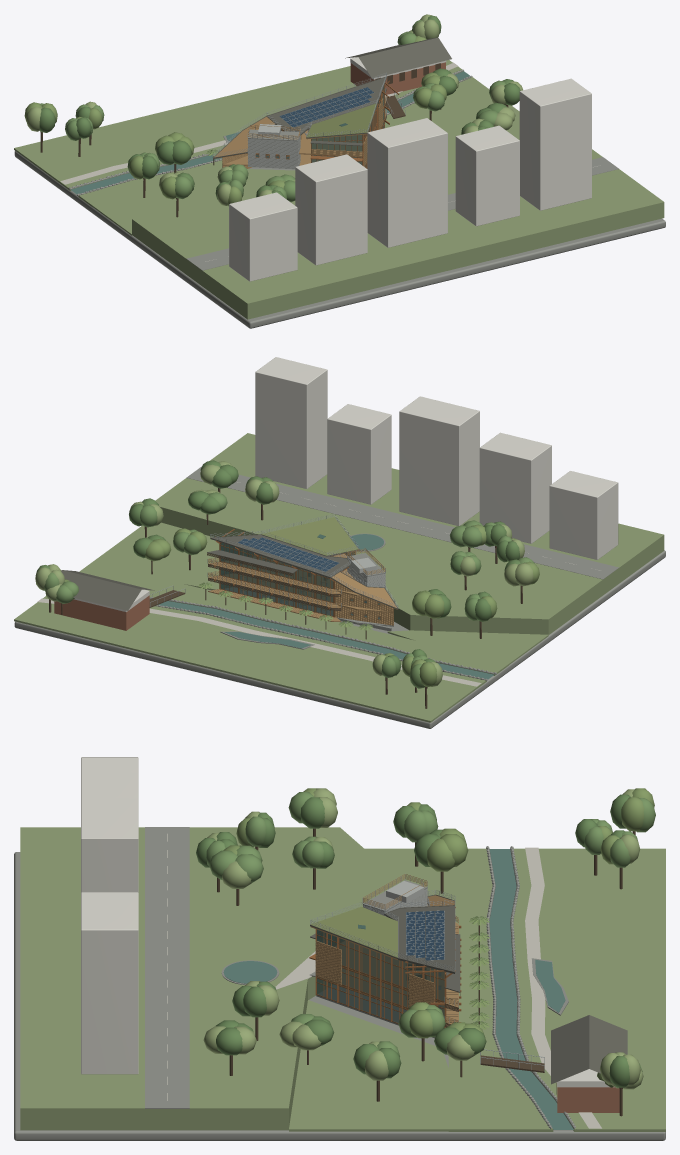
3 views of the same model, one above another, from view 1: azimuth 30°, elevation 25°; view 2: azimuth 150°, elevation 25°; view 3: azimuth 270°, elevation 25° (orthographic). The views are drawn at different scales.
Parts seen in each view (by area): view 1: 08_基地地形, 鄰棟與植栽, 04_屋頂與光電, 06_南側服務量體, 01_樓板與基座, 03_門窗玻璃, 05_陽台欄杆; view 2: 08_基地地形, 鄰棟與植栽, 04_屋頂與光電, 05_陽台欄杆, 03_門窗玻璃, 06_南側服務量體, 01_樓板與基座, 09_植栽; view 3: 08_基地地形, 鄰棟與植栽, 04_屋頂與光電, 03_門窗玻璃, 01_樓板與基座, 06_南側服務量體, 02_木構與斜撐, 09_植栽, 05_陽台欄杆.
Boxes of the visible parts, x1,y1,x2,y2 form: 08_基地地形: (14, 60, 665, 328); 鄰棟與植栽: (24, 14, 591, 281); 04_屋頂與光電: (213, 73, 399, 158); 06_南側服務量體: (222, 98, 383, 169); 01_樓板與基座: (223, 107, 383, 170); 03_門窗玻璃: (233, 86, 384, 167); 05_陽台欄杆: (310, 88, 386, 161); 08_基地地形: (14, 433, 665, 728); 鄰棟與植栽: (35, 357, 618, 708); 04_屋頂與光電: (210, 514, 398, 609); 05_陽台欄杆: (207, 547, 360, 621); 03_門窗玻璃: (220, 543, 380, 619); 06_南側服務量體: (335, 548, 393, 625); 01_樓板與基座: (223, 554, 393, 631); 09_植栽: (198, 582, 373, 630); 08_基地地形: (14, 827, 665, 1140); 鄰棟與植栽: (81, 757, 655, 1116); 04_屋頂與光電: (310, 889, 455, 973); 03_門窗玻璃: (316, 929, 444, 1028); 01_樓板與基座: (316, 904, 444, 1038); 06_南側服務量體: (315, 874, 434, 1008); 02_木構與斜撐: (315, 907, 461, 1027); 09_植栽: (469, 916, 489, 1029); 05_陽台欄杆: (309, 915, 460, 1027).
Bounding box in the file's own units: 104 × 30.75 × 102.
